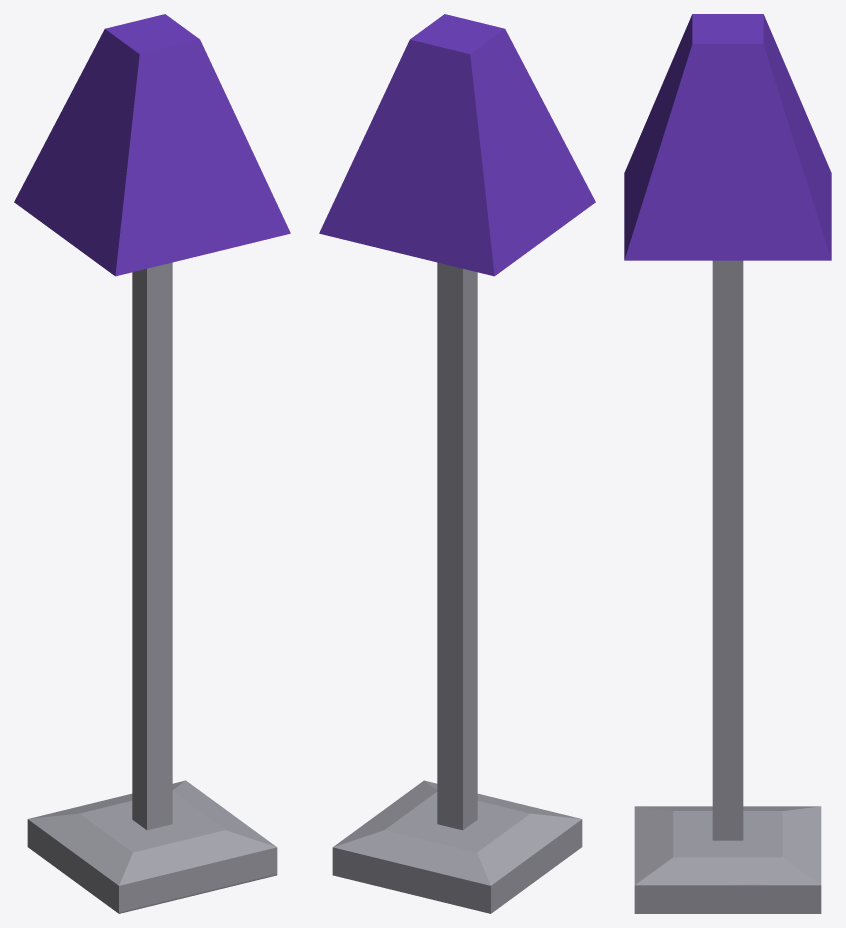
Rendered from Lamp_WorkRoom.glb.
3 renders of one model, left to right at view 1: azimuth 30°, elevation 25°; view 2: azimuth 150°, elevation 25°; view 3: azimuth 270°, elevation 25°, orthographic. The views are drawn at different scales.
Visible parts, largest first — view 1: Floor_lamp.001; view 2: Floor_lamp.001; view 3: Floor_lamp.001.
Part boxes in pixels (box(x1,y1,x2,y2)): Floor_lamp.001: box(14, 14, 290, 913); Floor_lamp.001: box(319, 14, 595, 913); Floor_lamp.001: box(624, 14, 831, 913).
Size of the model in its own units: 0.333 by 1.5 by 0.333.
Materials: 1 (1 with a texture image).
